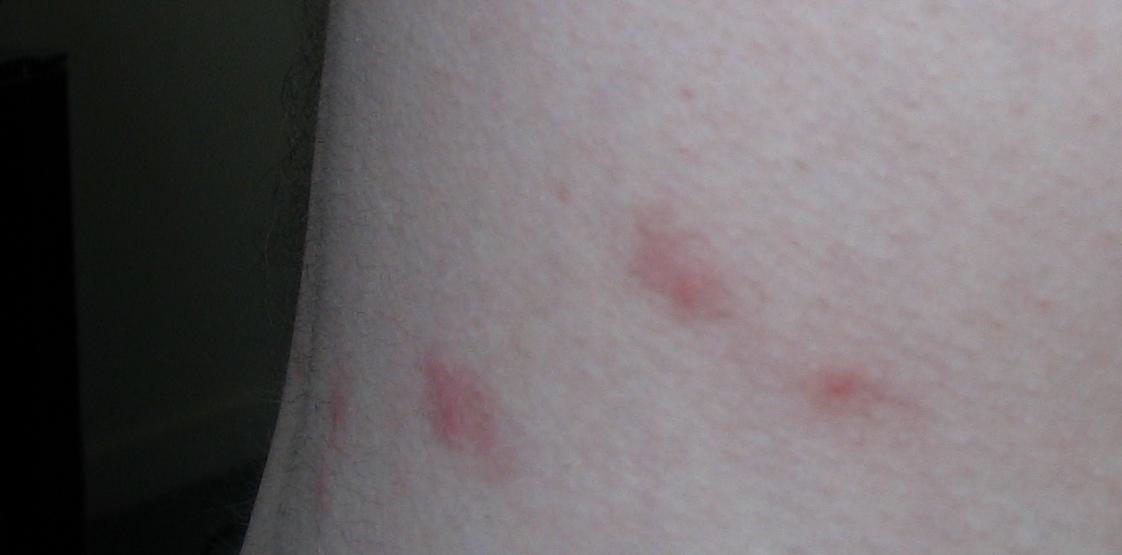Fleas: (609, 207, 746, 345), (405, 344, 522, 488), (804, 370, 882, 411)
